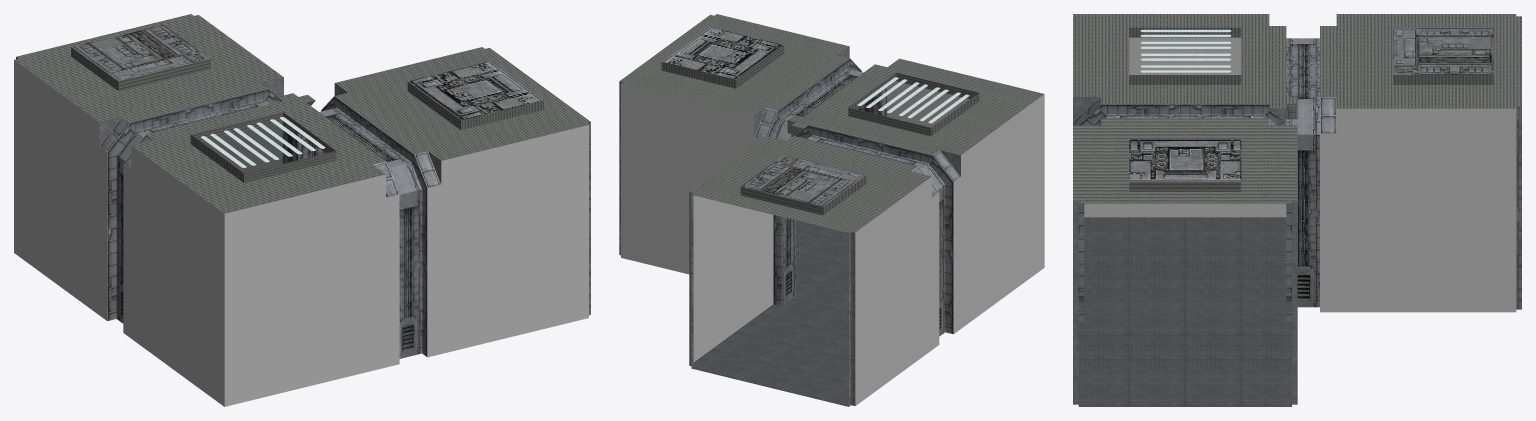
Rendered from poi_all_impl_bunker_small_outpost_s01_r5_landing_mesh.fbx.
3 views of the same model, side by side, from view 1: azimuth 30°, elevation 25°; view 2: azimuth 150°, elevation 25°; view 3: azimuth 270°, elevation 25° (orthographic). The views are drawn at different scales.
Visible parts, largest first — view 1: mesh_node; view 2: mesh_node; view 3: mesh_node.
Part boxes in pixels (<box>): mesh_node: <box>14,14,590,406</box>; mesh_node: <box>619,14,1044,406</box>; mesh_node: <box>1073,14,1521,406</box>.
Size of the model in its own units: 8 by 4.2 by 8.
